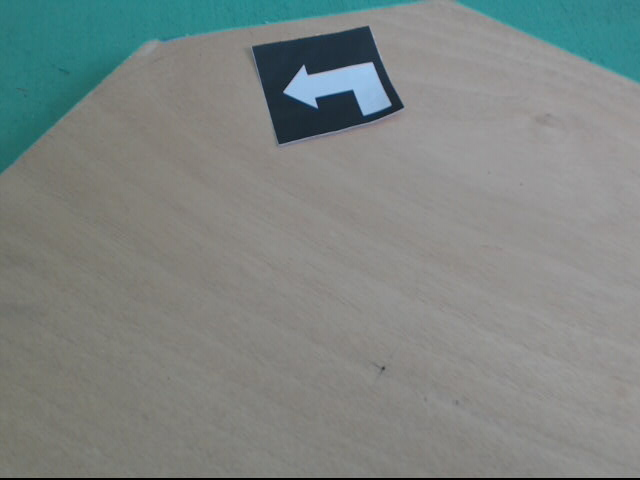left: (248, 24, 405, 146)
